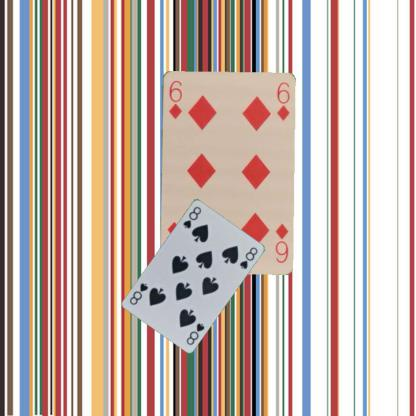6d: (272, 221, 290, 264), (165, 78, 183, 119)
8s: (180, 204, 202, 230), (184, 320, 206, 346)
